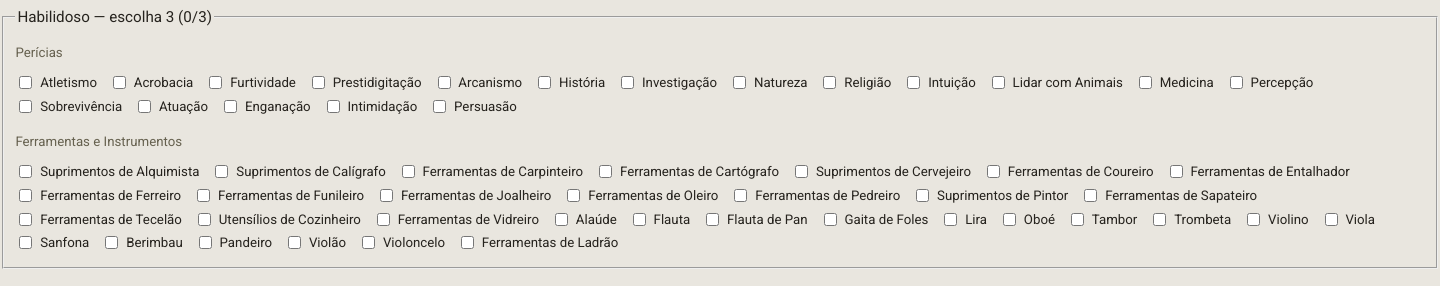
Test case: FeatureChoiceControl — skillOrToolProficiency (Habilidoso) › ao atingir o limite de 3, as demais opções (perícia e ferramenta) ficam desabilitadas
The width and height of the screenshot is (1440, 286).
Click the checkbox labelled "Atletismo": (26, 82) [19,76,32,89]
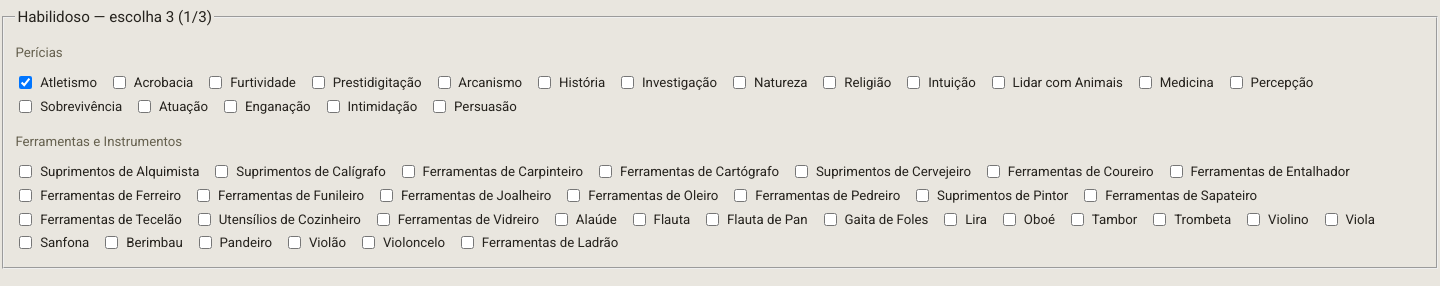
Click the checkbox labelled "Furtividade": (216, 82) [209,76,222,89]
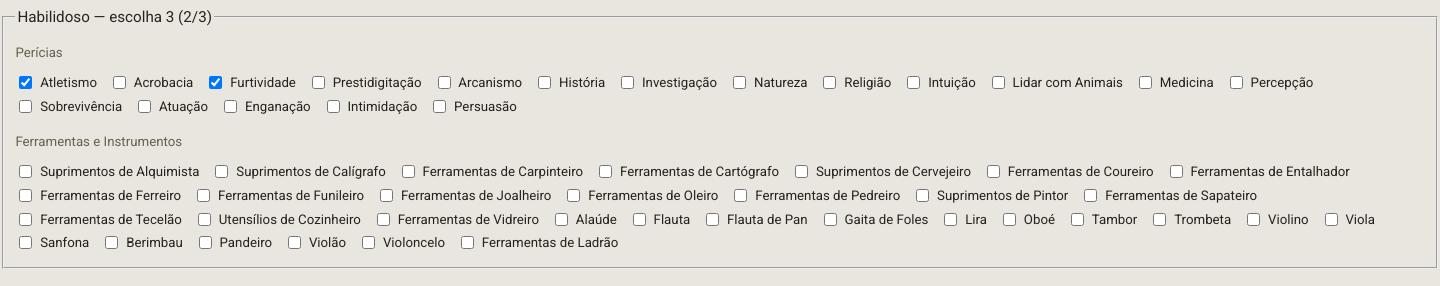
Click the checkbox labelled "Alaúde": (562, 219) [555,213,568,226]
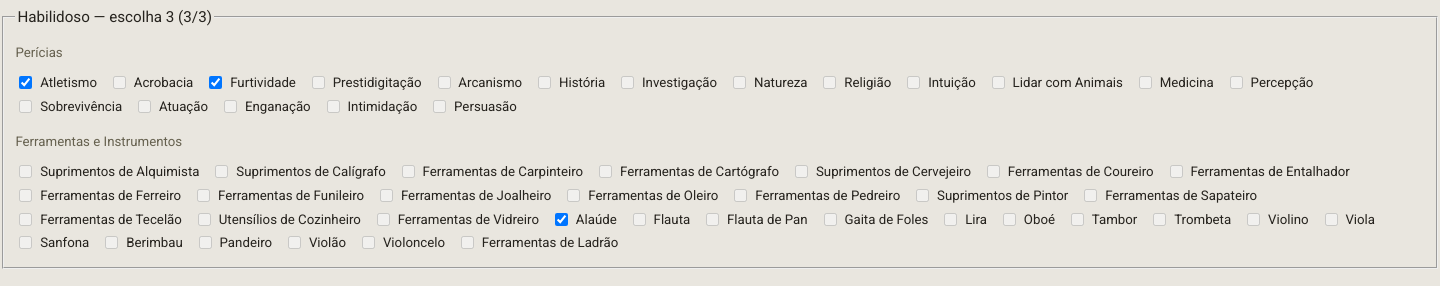
Expected: the checkbox labelled "Atletismo" is enabled, [19,76,32,89]
Result: the checkbox labelled "Acrobacia" is disabled at [113,76,126,89]
Result: the checkbox labelled "Flauta" is disabled at [633,213,646,226]
